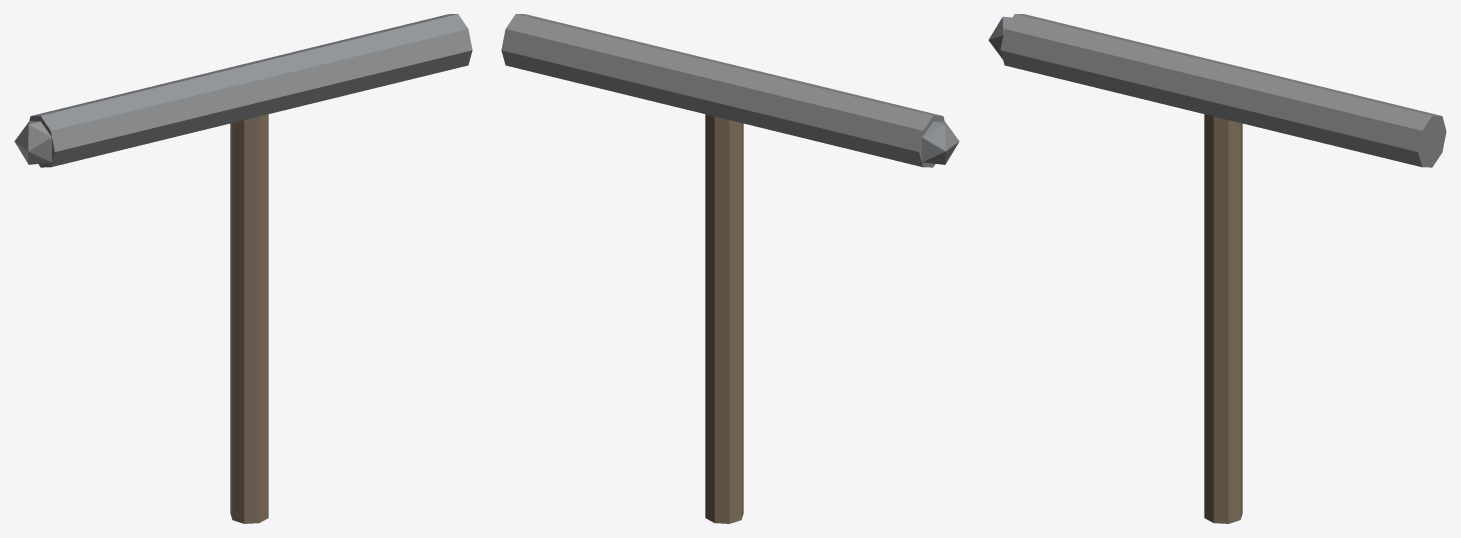
Rendered from spitzhacke.glb.
3 renders of one model, left to right at view 1: azimuth 30°, elevation 25°; view 2: azimuth 150°, elevation 25°; view 3: azimuth 330°, elevation 25°, orthographic.
Parts seen in each view (by area): view 1: spitzhacke_n2, spitzhacke_n1, spitzhacke_n3; view 2: spitzhacke_n2, spitzhacke_n1, spitzhacke_n3; view 3: spitzhacke_n2, spitzhacke_n1.
Boxes of the visible parts, left/top/right/bottom form: spitzhacke_n2: left=29, top=14, right=472, bottom=167; spitzhacke_n1: left=230, top=114, right=268, bottom=523; spitzhacke_n3: left=14, top=121, right=51, bottom=164; spitzhacke_n2: left=501, top=14, right=944, bottom=167; spitzhacke_n1: left=705, top=114, right=743, bottom=523; spitzhacke_n3: left=922, top=121, right=959, bottom=164; spitzhacke_n2: left=1000, top=14, right=1446, bottom=167; spitzhacke_n1: left=1204, top=114, right=1242, bottom=523.
Size of the model in its own units: 1.15 by 1.13 by 0.13.
